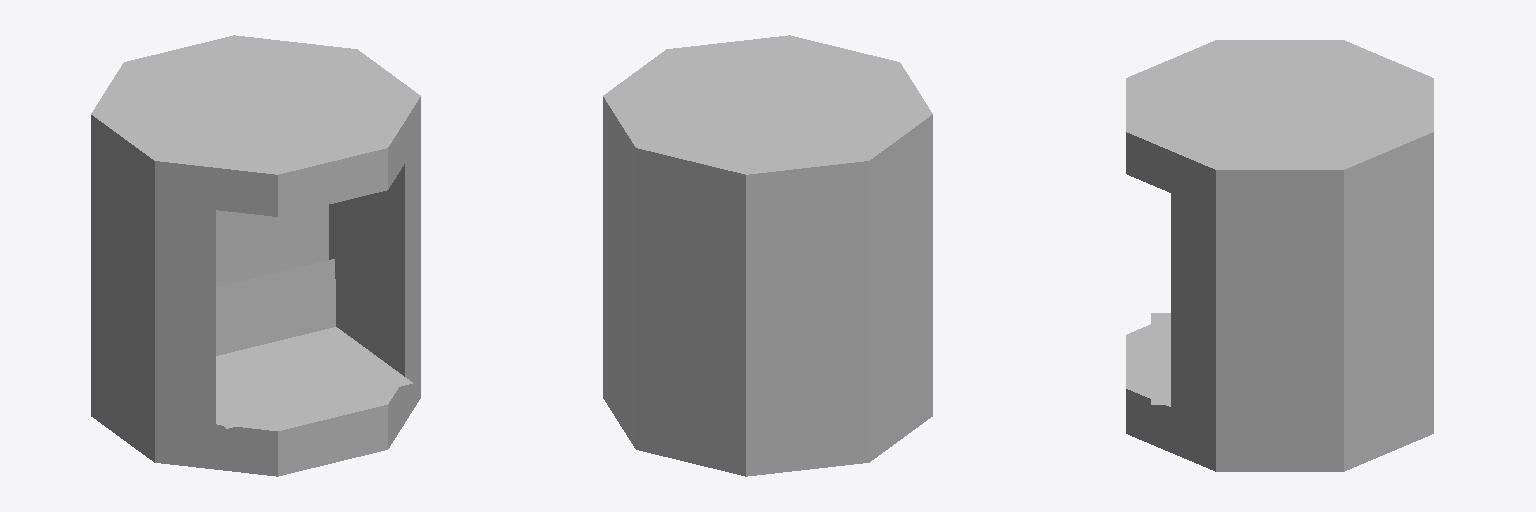
File: child_wheel.obj
The picture shows the model from 3 angles: view 1: azimuth 30°, elevation 25°; view 2: azimuth 150°, elevation 25°; view 3: azimuth 270°, elevation 25°; orthographic projection.
Visible parts, largest first — view 1: Cylinder; view 2: Cylinder; view 3: Cylinder.
Part boxes in pixels (bbox=[...]): Cylinder: bbox=[91, 35, 420, 476]; Cylinder: bbox=[603, 35, 932, 476]; Cylinder: bbox=[1126, 40, 1433, 471].
Size of the model in its own units: 1.85 by 2 by 1.85.